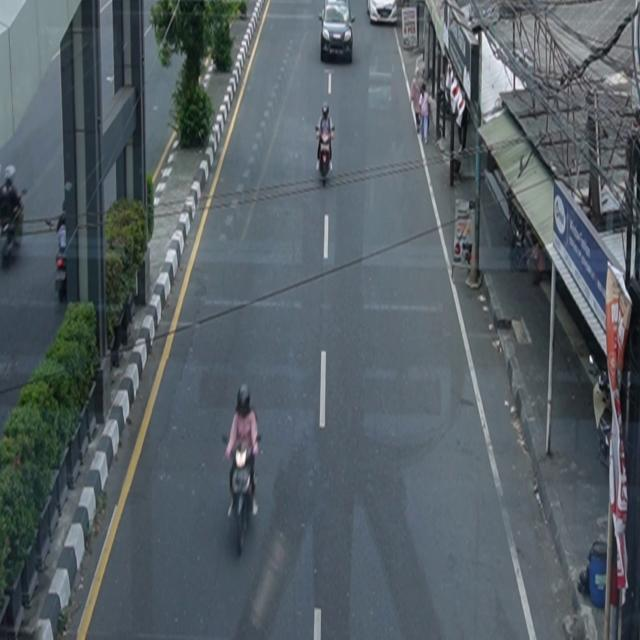car: (319, 1, 356, 64), (368, 1, 399, 26)
